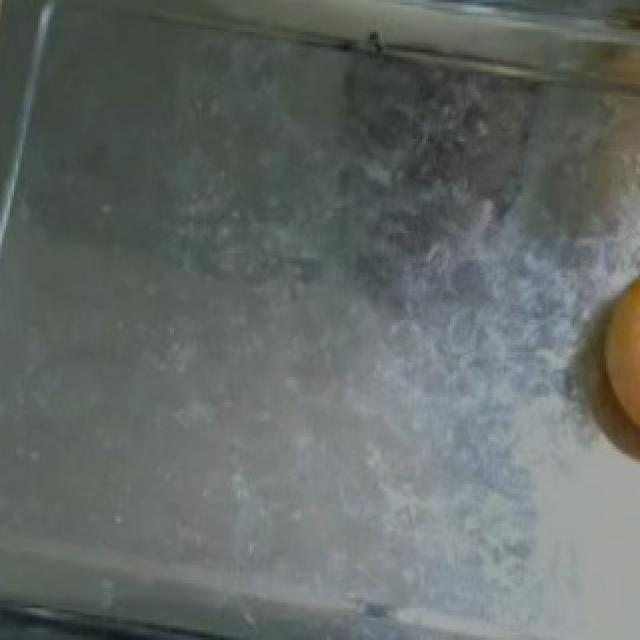Fruit: (576, 243, 640, 471)
